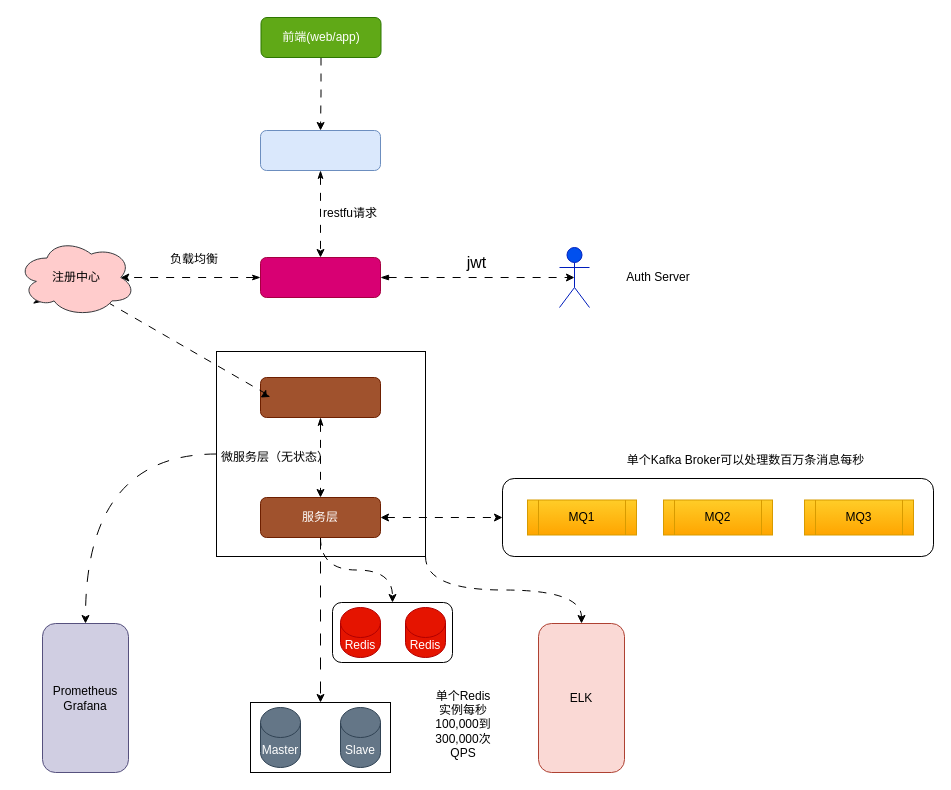
Some shapes in this 951 by 790 pixel diagram are drawn without their labels. Here are the shapes that lost their labels. From the top down, the centre of each, then its label:
pixel 320 150: nginx
pixel 320 277: 网关
pixel 320 397: 应用层
